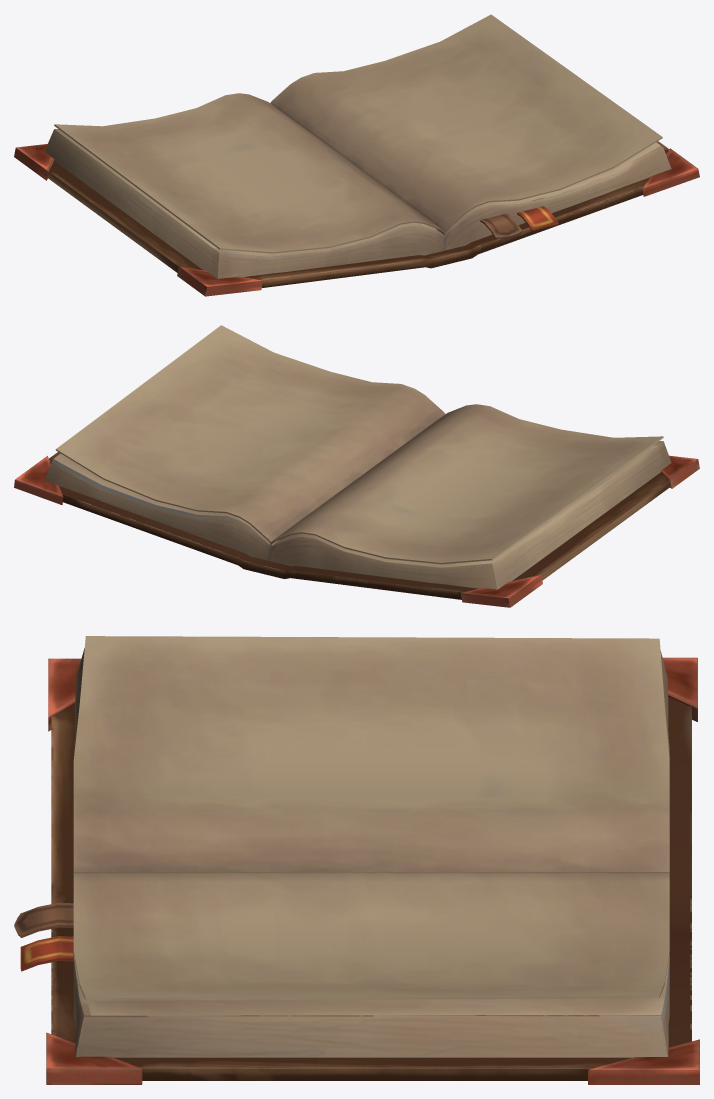
Rendered from Libro Abierto.FBX.
The picture shows the model from 3 angles, top to bottom: view 1: azimuth 30°, elevation 25°; view 2: azimuth 150°, elevation 25°; view 3: azimuth 270°, elevation 25°; orthographic projection. The views are drawn at different scales.
Parts seen in each view (by area): view 1: Libro_abierto; view 2: Libro_abierto; view 3: Libro_abierto.
Boxes of the visible parts, x1=… form: Libro_abierto: x1=14, y1=14, x2=699, y2=296; Libro_abierto: x1=14, y1=325, x2=699, y2=607; Libro_abierto: x1=14, y1=636, x2=699, y2=1084.
Size of the model in its own units: 17.25 by 2.17 by 12.12.
Materials: 1 (1 with a texture image).
